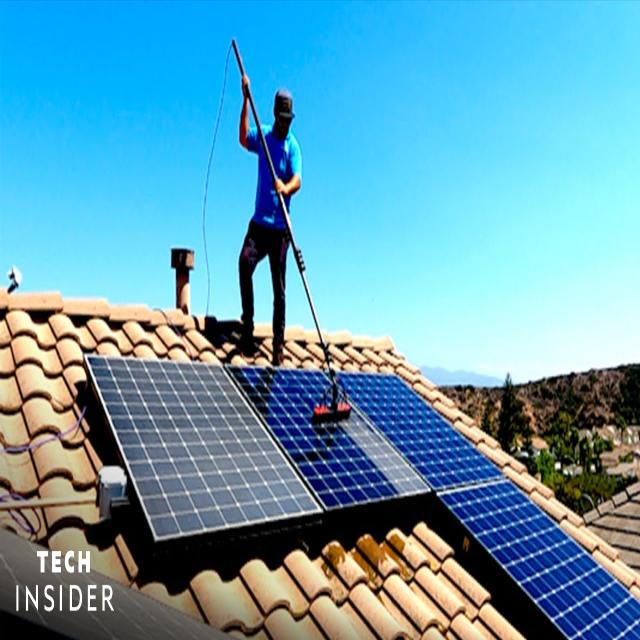clean-solar-panel: (341, 373, 640, 638)
dust-solar-panel: (85, 356, 321, 542)
